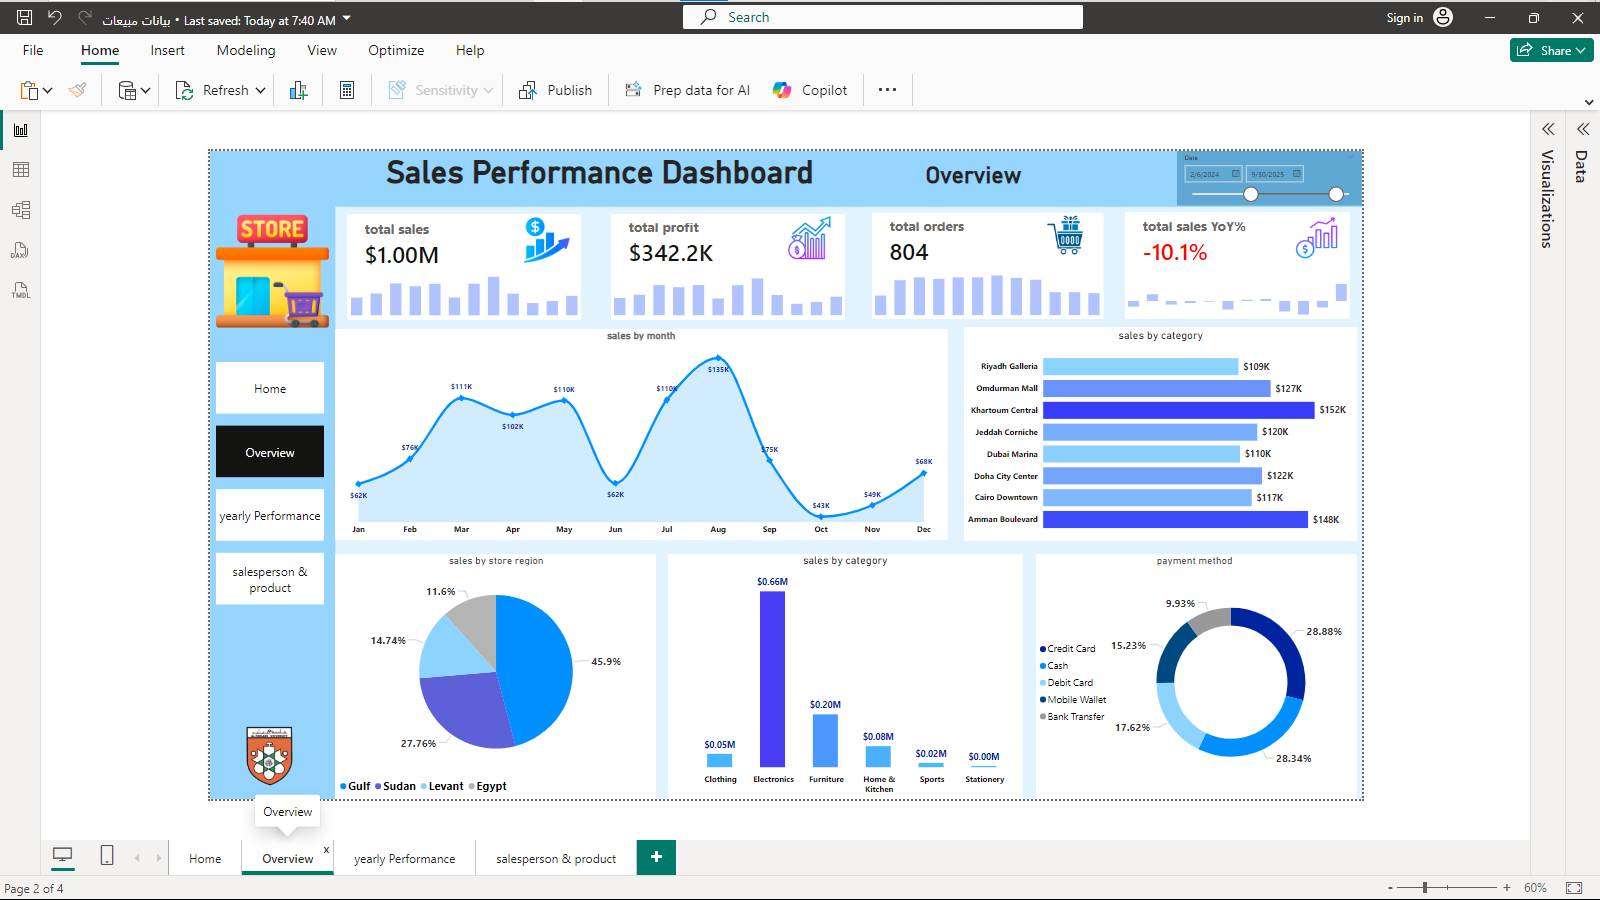

Layout of this report page (visuals, bound fields, positions):
{"tool":"powerbi","page":{"name":"Overview","canvas":[1920,1080],"ordinal":1},"visuals":[{"type":"shape","box":[0,0,208.9,1080],"z":0},{"type":"shape","box":[208.9,0,1711.6,93.2],"z":1000},{"type":"shape","box":[228.9,104.7,390.4,176.5],"z":2000},{"type":"cardVisual","fields":{"Data":["sales_data.total sales"]},"box":[228.9,104.7,236.3,101.7],"z":3000},{"type":"shape","box":[668.6,104.7,390.4,176.5],"z":4000},{"type":"shape","box":[1103.9,103.2,385.9,176.5],"z":5000},{"type":"shape","box":[1525.8,101.7,375.5,178],"z":6000},{"type":"cardVisual","fields":{"Data":["date_dim.total sales YoY%"]},"box":[1525.8,101.7,236.3,98.7],"z":7000},{"type":"cardVisual","fields":{"Data":["sales_data.total orders"]},"box":[1103.9,101.7,251.3,98.7],"z":8000},{"type":"cardVisual","fields":{"Data":["sales_data.total profit"]},"box":[668.6,103.2,236.3,97.2],"z":9000},{"type":"columnChart","fields":{"Category":["date_dim.month name"],"Y":["sales_data.total sales"]},"box":[229.4,187.7,388.2,91.4],"z":10000},{"type":"columnChart","fields":{"Category":["date_dim.month name"],"Y":["sales_data.total profit"]},"box":[668.6,180,390.5,99.6],"z":11000},{"type":"columnChart","fields":{"Category":["date_dim.month name"],"Y":["date_dim.total sales YoY%"]},"box":[1525.4,187.7,375.3,91.4],"z":12000},{"type":"columnChart","fields":{"Category":["date_dim.month name"],"Y":["sales_data.total orders"]},"box":[1103.6,179.6,385,99.4],"z":13000},{"type":"shape","box":[1256.8,292.5,655.7,356.8],"z":14000},{"type":"shape","box":[208.9,297.3,1020.5,352],"z":15000},{"type":"shape","box":[208.9,671.8,535.2,408.2],"z":16000},{"type":"shape","box":[1377.3,671.8,535.2,408.2],"z":17000},{"type":"shape","box":[763.4,671.8,591.4,408.2],"z":18000},{"type":"lineChart","title":" sales by month ","fields":{"Y":["sales_data.total sales"],"Category":["date_dim.month name"]},"box":[208.9,297.3,1020.5,352],"z":19000},{"type":"columnChart","title":"sales by category","fields":{"Y":["sales_data.total sales"],"Category":["sales_data.category"]},"box":[762.9,671.6,590.9,408.4],"z":20000},{"type":"barChart","title":"sales by category","fields":{"Category":["sales_data.store_name"],"Y":["sales_data.total sales"]},"box":[1256.8,297.3,655.7,352],"z":21000},{"type":"pieChart","title":"sales by store region","fields":{"Category":["sales_data.store_region"],"Series":["sales_data.store_region"],"Y":["sales_data.total sales"]},"box":[210.5,671.8,533.6,408.2],"z":22000},{"type":"donutChart","title":"payment method","fields":{"Category":["sales_data.payment_method"],"Y":["sales_data.total sales"]},"box":[1377.3,671.8,528.8,408.2],"z":23000},{"type":"textbox","box":[229.8,0,1186.1,93.2],"z":24000},{"type":"image","box":[507.1,104.7,109.2,86.8],"z":25000},{"type":"image","box":[1789,107.7,112.2,73.3],"z":26000},{"type":"image","box":[1365.7,104.7,122.7,71.8],"z":27000},{"type":"image","box":[937.9,107.7,121.2,71.8],"z":28000},{"type":"image","box":[9.6,83.6,188,234.6],"z":29000},{"type":"slicer","fields":{"Values":["date_dim.Date"]},"box":[1612,0,308,91.4],"z":30000},{"type":"pageNavigator","box":[9.6,352,180,405],"z":31000},{"type":"image","box":[43.3,951.7,113.3,106.7],"z":31001}]}

Visuals, with their boxes on the page's 1920x1080 design canvas (x1, y1, x2, y2). These are canvas units, not pixel positions in the 1600x900 screenshot, which may show the page scaled, cropped or inside an application window:
shape: detection(0, 0, 209, 1080)
shape: detection(209, 0, 1920, 93)
shape: detection(229, 105, 619, 281)
cardVisual - sales_data.total sales: detection(229, 105, 465, 206)
shape: detection(669, 105, 1059, 281)
shape: detection(1104, 103, 1490, 280)
shape: detection(1526, 102, 1901, 280)
cardVisual - date_dim.total sales YoY%: detection(1526, 102, 1762, 200)
cardVisual - sales_data.total orders: detection(1104, 102, 1355, 200)
cardVisual - sales_data.total profit: detection(669, 103, 905, 200)
columnChart - date_dim.month name x sales_data.total sales: detection(229, 188, 618, 279)
columnChart - date_dim.month name x sales_data.total profit: detection(669, 180, 1059, 280)
columnChart - date_dim.month name x date_dim.total sales YoY%: detection(1525, 188, 1901, 279)
columnChart - date_dim.month name x sales_data.total orders: detection(1104, 180, 1489, 279)
shape: detection(1257, 292, 1912, 649)
shape: detection(209, 297, 1229, 649)
shape: detection(209, 672, 744, 1080)
shape: detection(1377, 672, 1912, 1080)
shape: detection(763, 672, 1355, 1080)
" sales by month " lineChart: detection(209, 297, 1229, 649)
"sales by category" columnChart: detection(763, 672, 1354, 1080)
"sales by category" barChart: detection(1257, 297, 1912, 649)
"sales by store region" pieChart: detection(210, 672, 744, 1080)
"payment method" donutChart: detection(1377, 672, 1906, 1080)
textbox: detection(230, 0, 1416, 93)
image: detection(507, 105, 616, 192)
image: detection(1789, 108, 1901, 181)
image: detection(1366, 105, 1488, 176)
image: detection(938, 108, 1059, 180)
image: detection(10, 84, 198, 318)
slicer - date_dim.Date: detection(1612, 0, 1920, 91)
pageNavigator: detection(10, 352, 190, 757)
image: detection(43, 952, 157, 1058)
